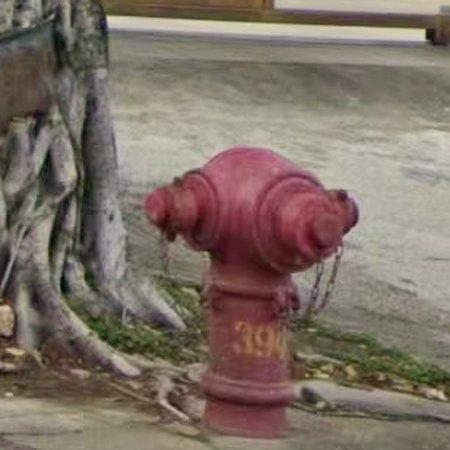a fire hydrant: (145, 147, 360, 438)
